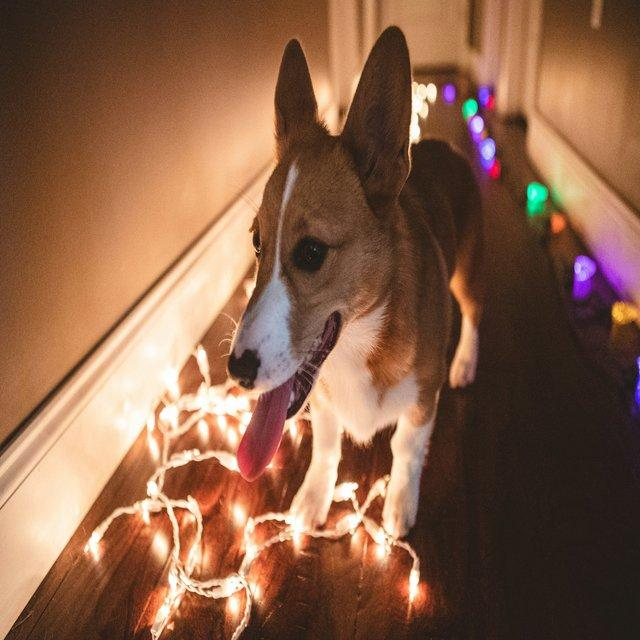corgi: (222, 23, 486, 543)
